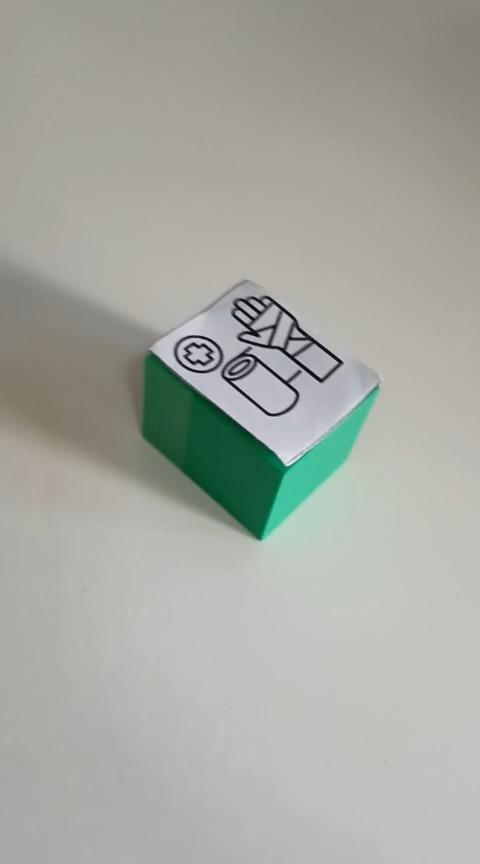Bandages: (139, 277, 382, 540)
